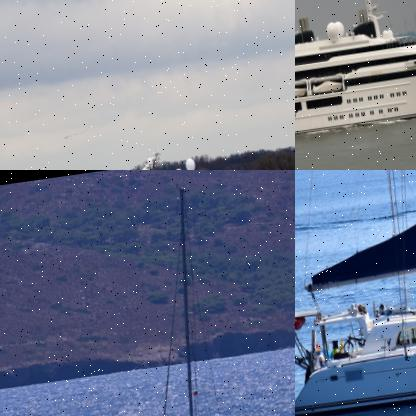Sails Boat: (99, 173, 294, 415), (295, 170, 415, 415)
Yacht: (295, 0, 415, 152), (0, 128, 294, 169)
